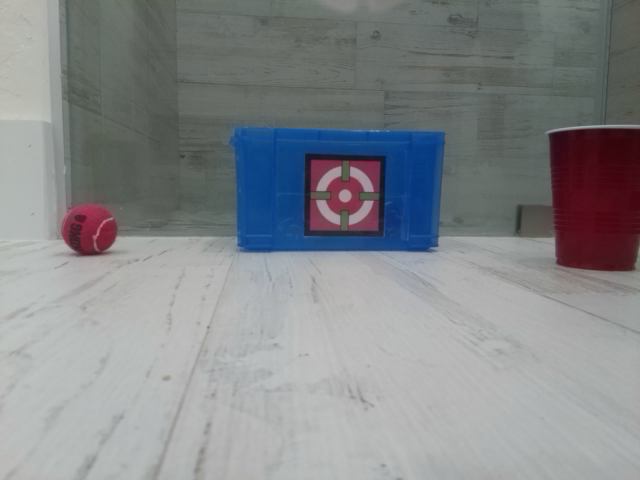drop-bin: (303, 153, 387, 237)
red-ball: (60, 202, 118, 256)
